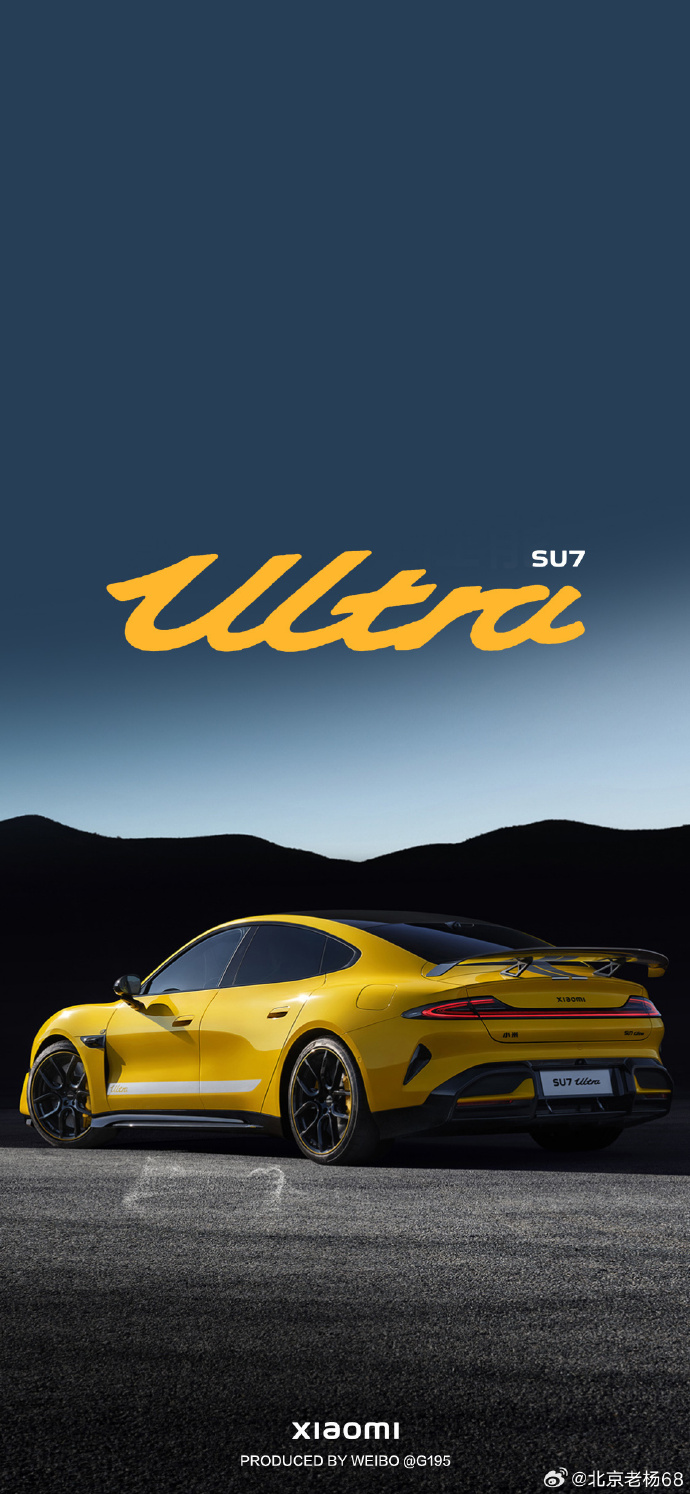su7: (18, 887, 683, 1171)
